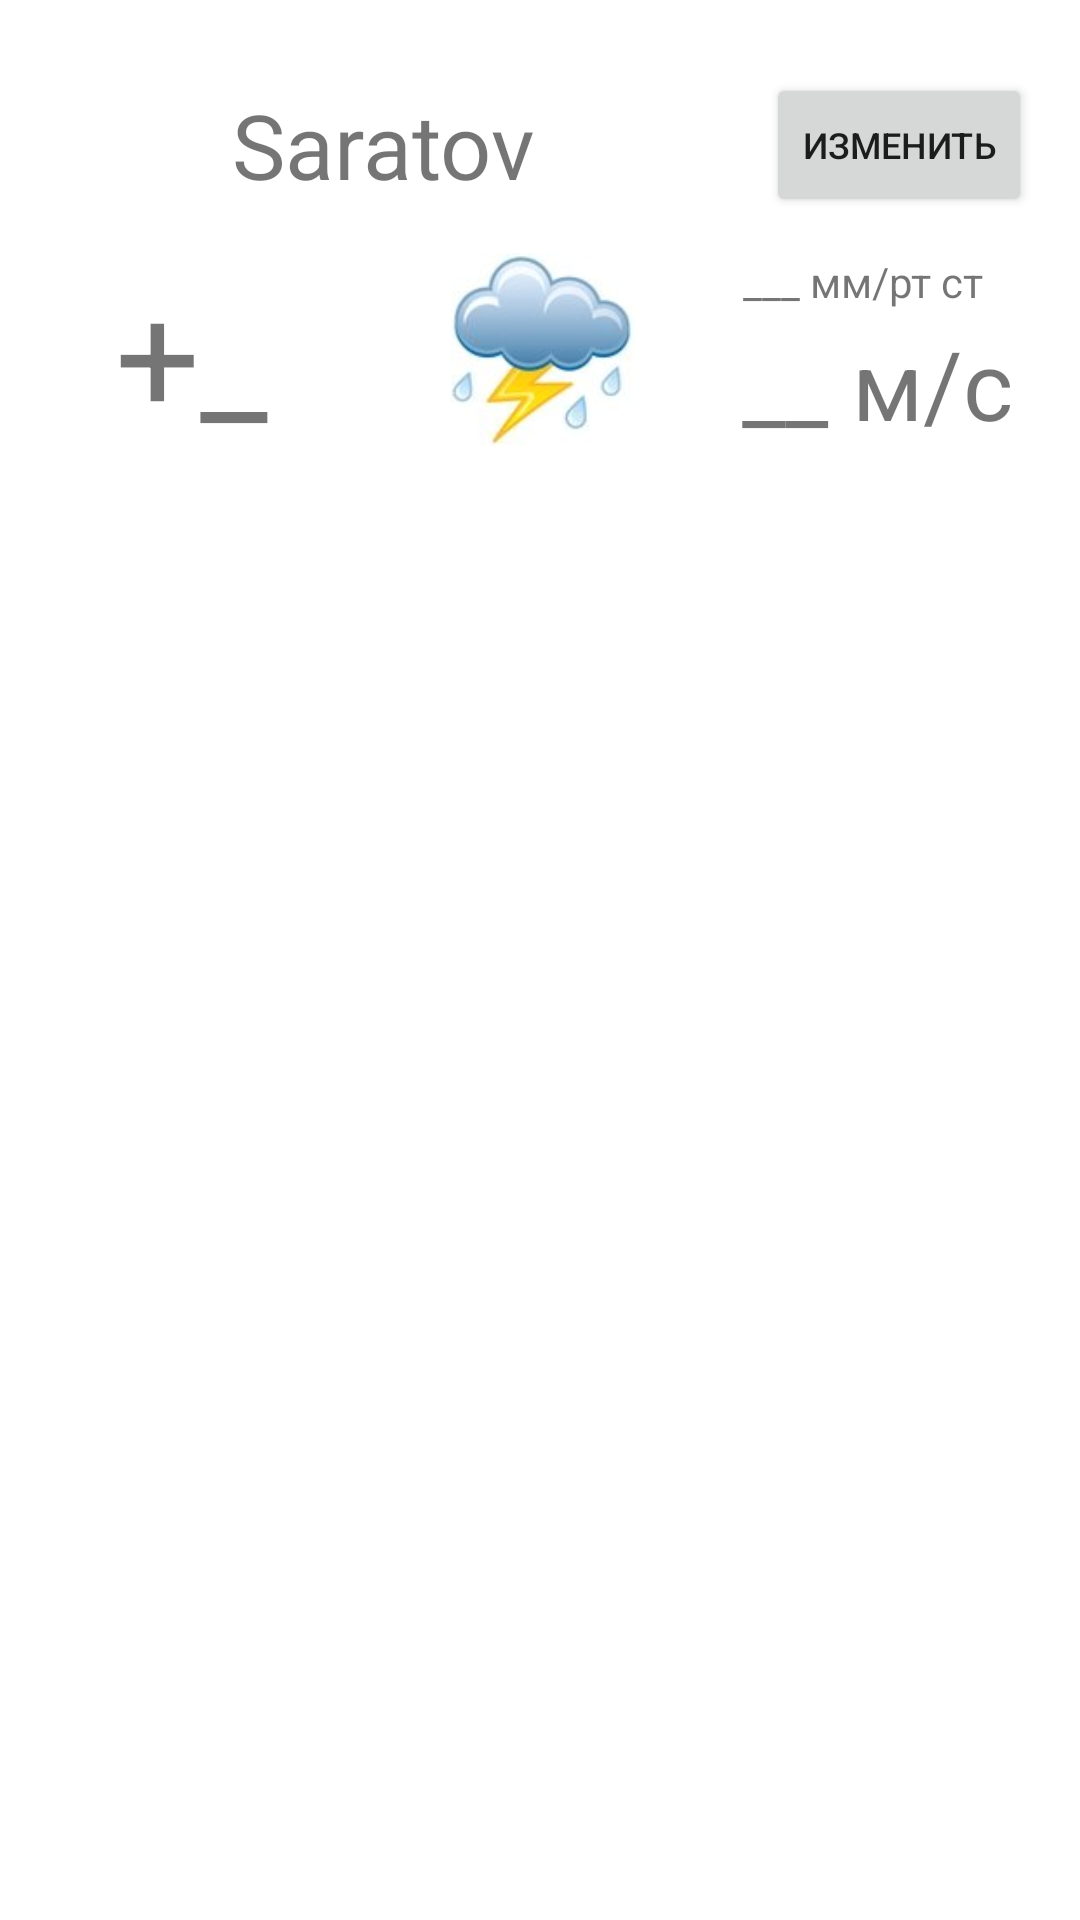

Locate icon controls on the screen. Image size 1080 x 1920, boxes as (x1, y1, x2, y2).
thunder: (452, 256, 631, 444)
